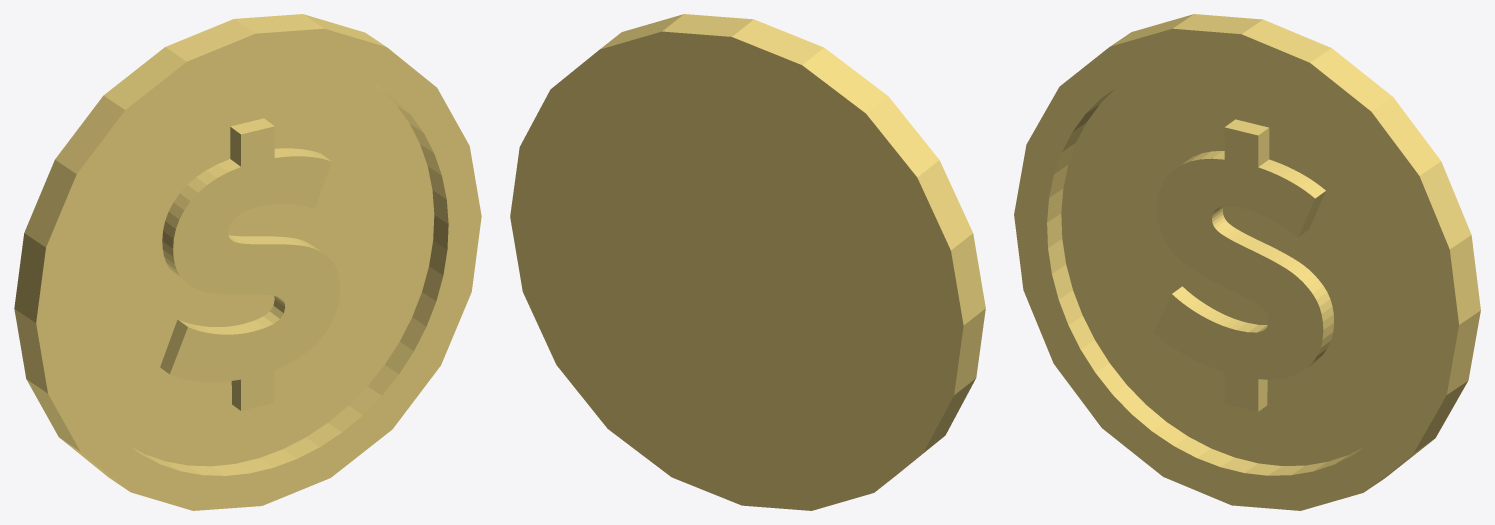
Rendered from coin.gltf.
3 views of the same model, side by side, from view 1: azimuth 30°, elevation 25°; view 2: azimuth 150°, elevation 25°; view 3: azimuth 330°, elevation 25° (orthographic).
Parts seen in each view (by area): view 1: coin; view 2: coin; view 3: coin.
Boxes of the visible parts, x1,y1,x2,y2 form: coin: [14, 14, 481, 510]; coin: [510, 14, 985, 510]; coin: [1014, 14, 1480, 510].
Bounding box in the file's own units: 0.00688 × 0.00689 × 0.000803.
